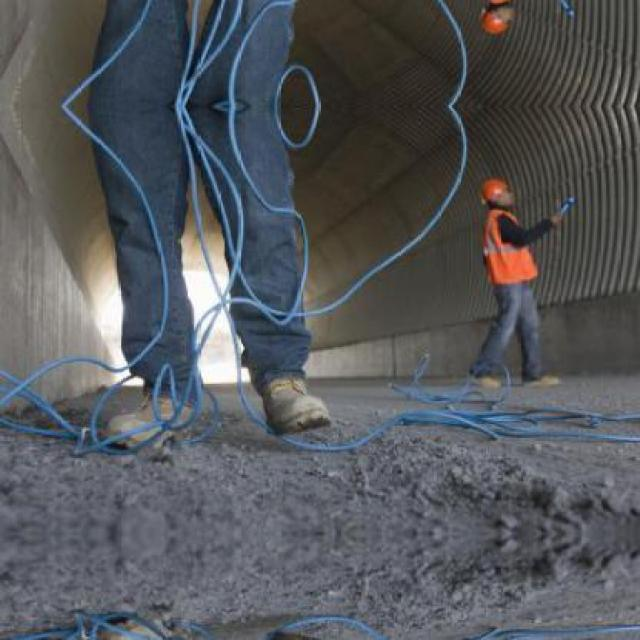hat: (479, 171, 508, 207)
